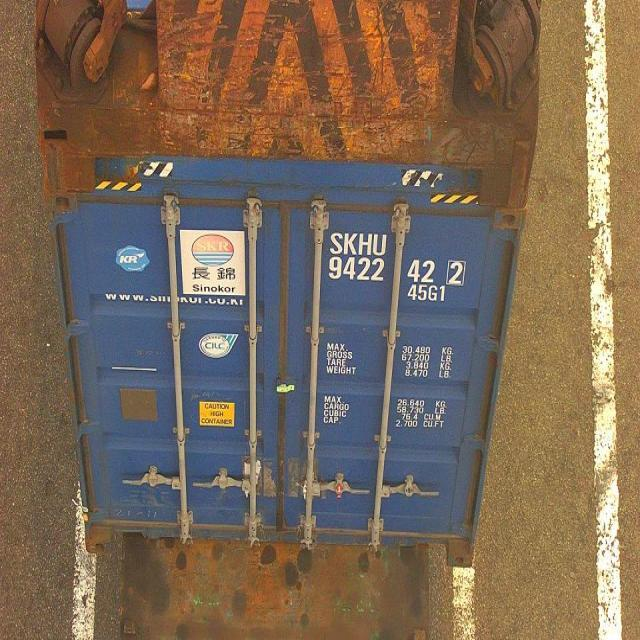ISO: (408, 282, 447, 306)
container_number: (331, 224, 466, 288)
